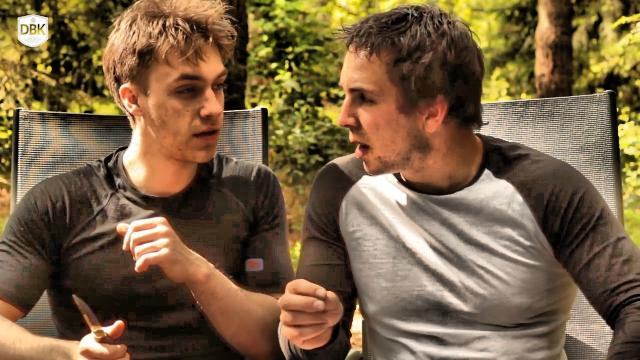knife: (60, 280, 128, 360)
